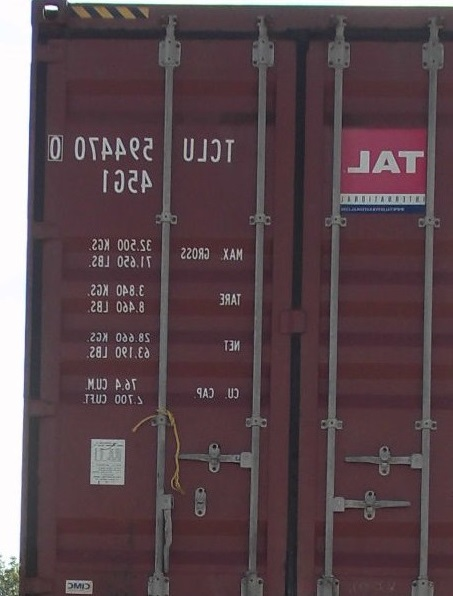container_door: (29, 2, 449, 592)
